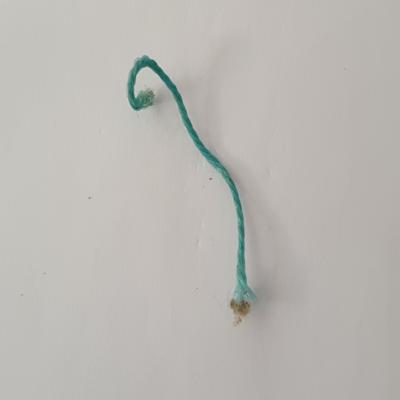thread: (119, 50, 267, 338)
